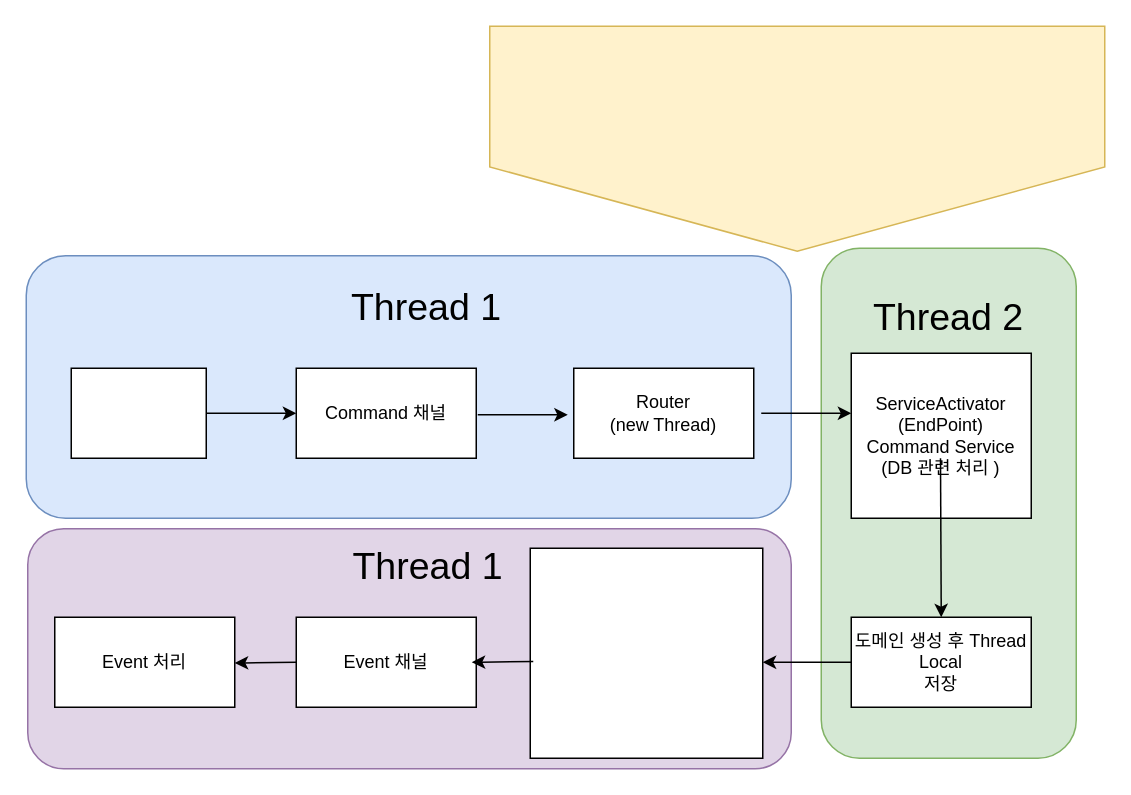
The diagram is 1131 pixels wide and 795 high, and some of its shapes have lost their labels. Each missing label, with the centre of its shape:
AOP TransactionSynchronizationManager: the point at 796,138
Client: the point at 138,412
도메인 Transaction이 정상적으로 완료되면Thread Local에서 이벤트 읽어 Event 채널로 이벤트 전송: the point at 646,652
